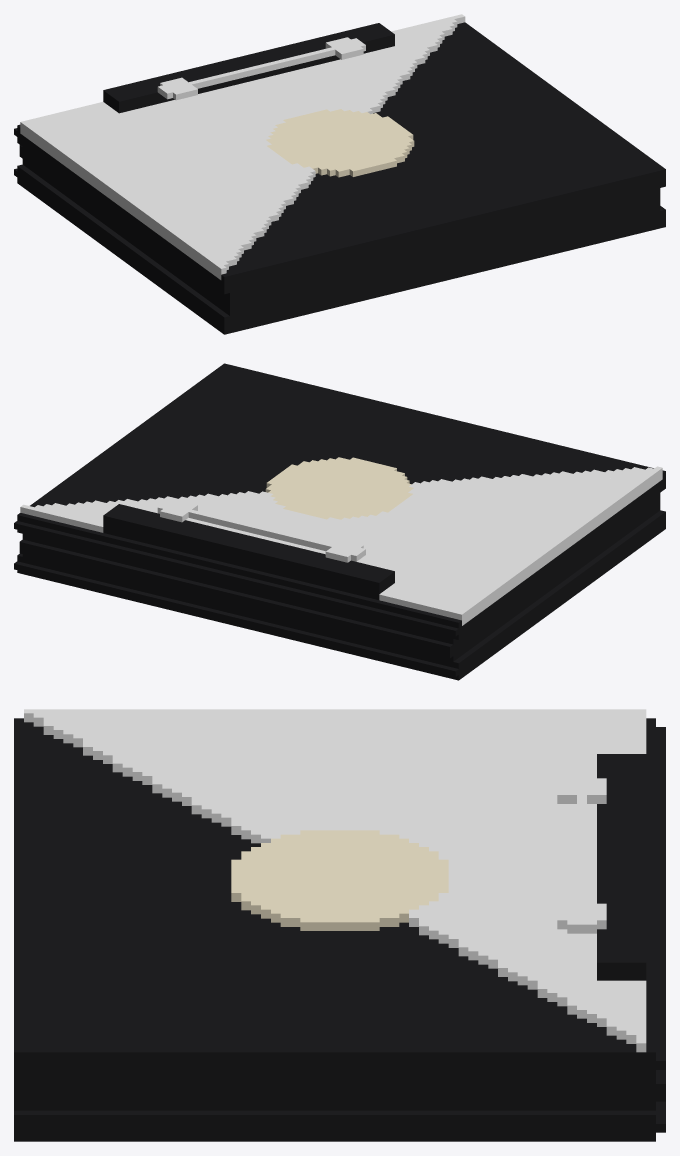
File: heraldic_cape.glb
The picture shows the model from 3 angles, top to bottom: view 1: azimuth 30°, elevation 25°; view 2: azimuth 150°, elevation 25°; view 3: azimuth 270°, elevation 25°; orthographic projection. The views are drawn at different scales.
Parts seen in each view (by area): view 1: heraldic_cape:compound; view 2: heraldic_cape:compound; view 3: heraldic_cape:compound.
Part boxes in pixels (left/top/right/bottom): heraldic_cape:compound: left=14, top=14, right=665, bottom=334; heraldic_cape:compound: left=14, top=363, right=665, bottom=680; heraldic_cape:compound: left=14, top=709, right=665, bottom=1141.
Size of the model in its own units: 0.32 by 0.056 by 0.264.
